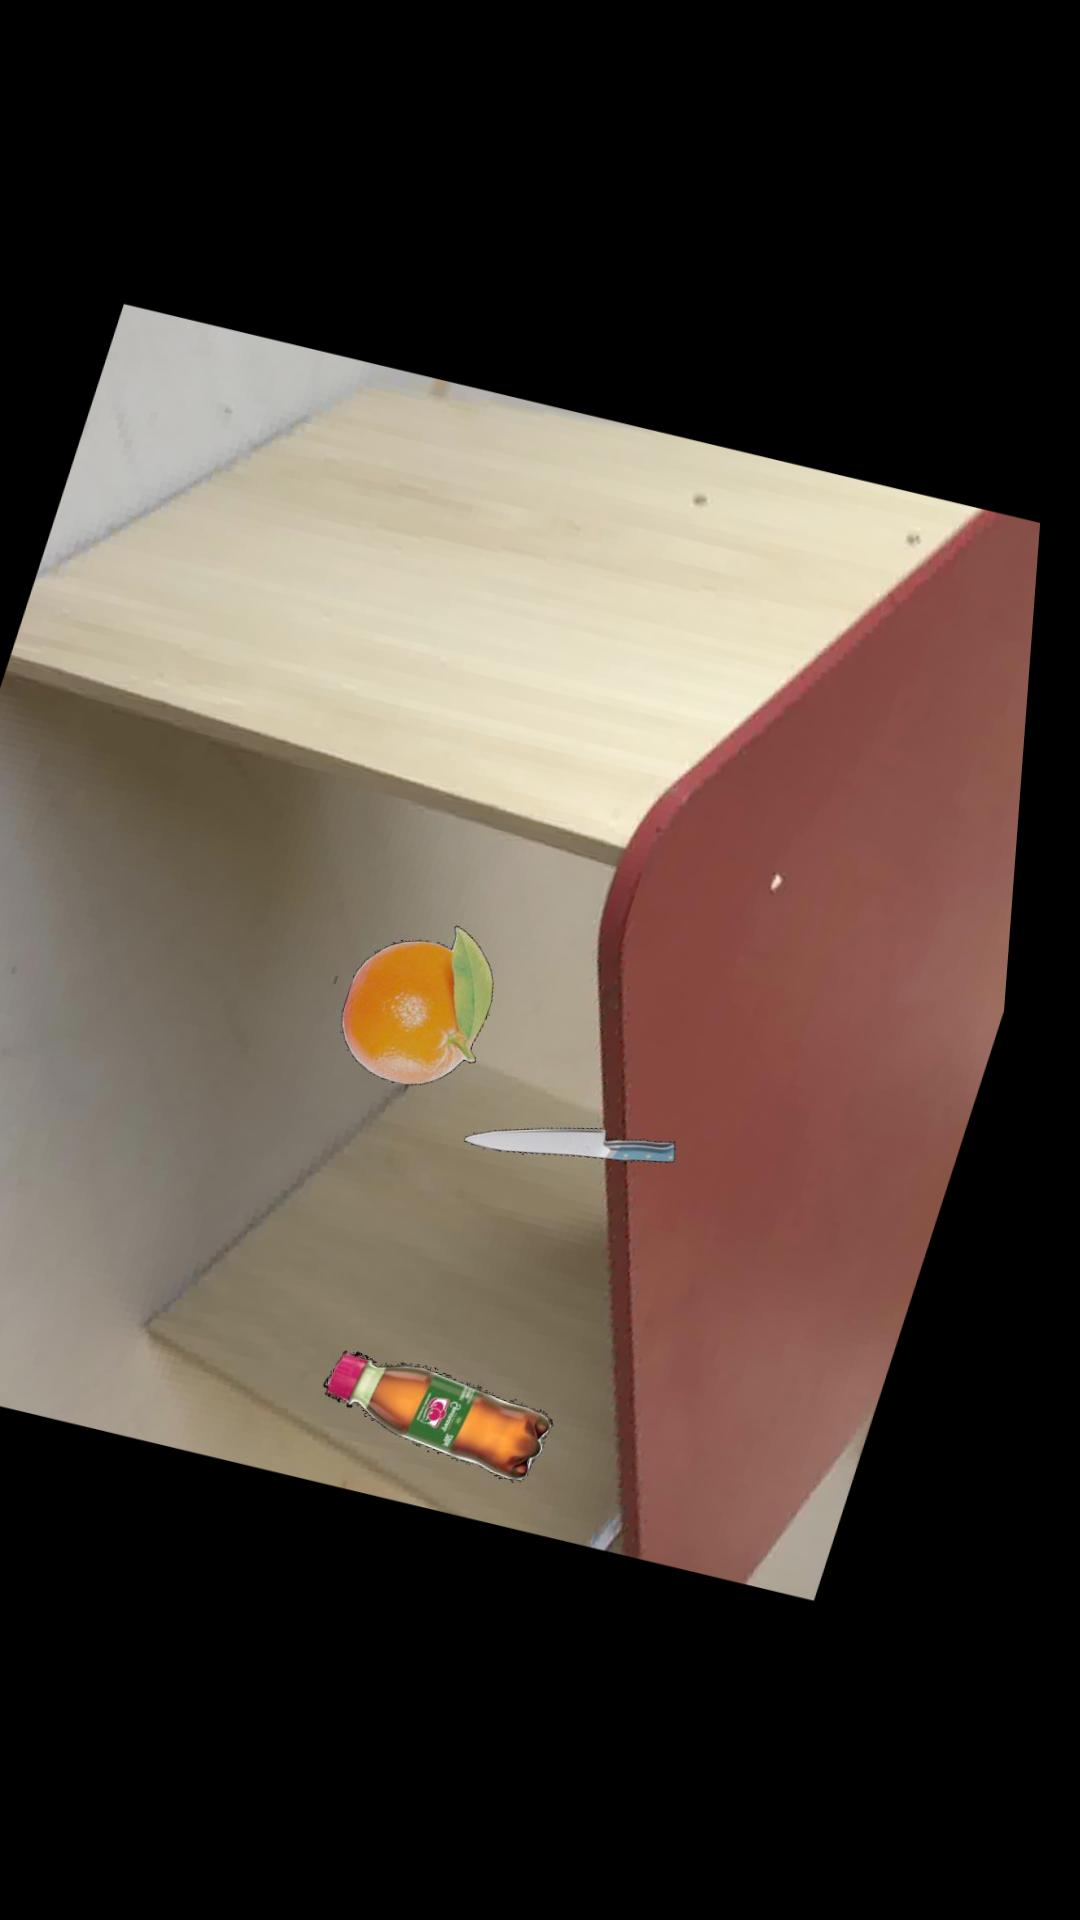guarana: (347, 1353, 576, 1484)
knife: (484, 1131, 695, 1166)
orange: (359, 930, 510, 1088)
